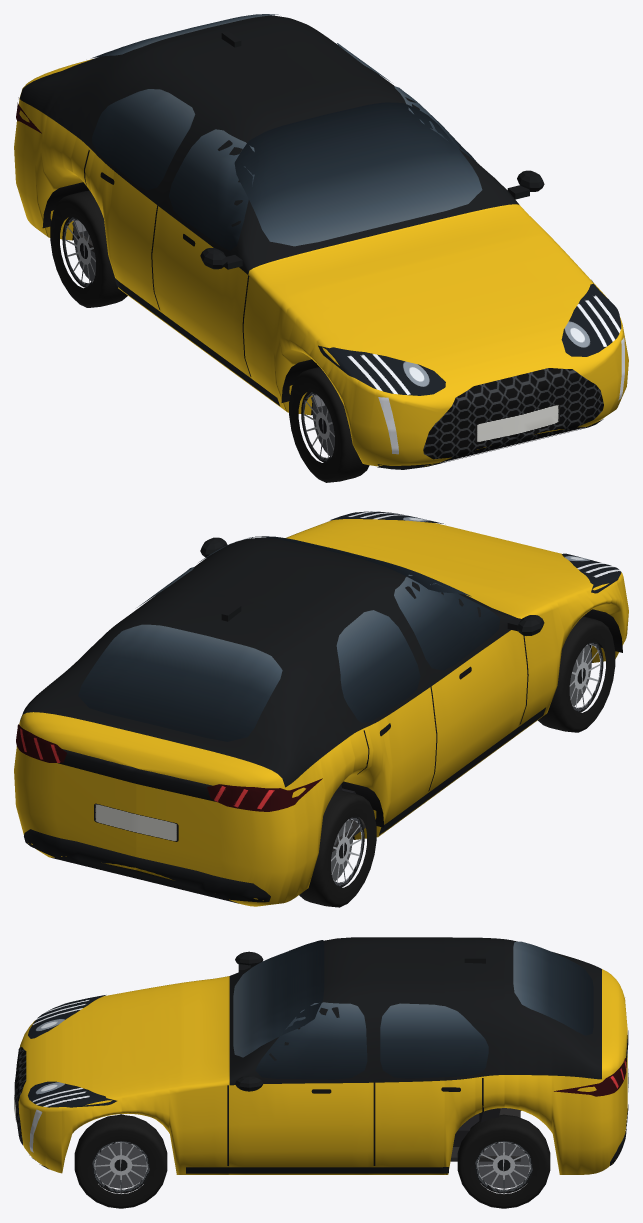
File: rafet.glb
3 renders of one model, top to bottom at view 1: azimuth 30°, elevation 25°; view 2: azimuth 150°, elevation 25°; view 3: azimuth 270°, elevation 25°, orthographic. The views are drawn at different scales.
Visible parts, largest first — view 1: body, wheel_rr, wheel_fr, door; view 2: body, wheel_rr, wheel_fr; view 3: body, door, wheel_fl, wheel_rl, cabin.
Part boxes in pixels (x1,y1,x2,y2): body: [14, 14, 628, 469]; wheel_rr: [50, 190, 127, 307]; wheel_fr: [289, 367, 369, 482]; door: [371, 76, 520, 209]; body: [14, 511, 628, 906]; wheel_rr: [299, 790, 376, 907]; wheel_fr: [538, 616, 615, 732]; body: [14, 937, 628, 1174]; door: [227, 997, 374, 1151]; wheel_fl: [74, 1114, 167, 1208]; wheel_rl: [457, 1114, 550, 1208]; cabin: [450, 1108, 520, 1161].
Size of the model in its own units: 2.08 by 1.46 by 4.08.
2 materials, 1 textured.
